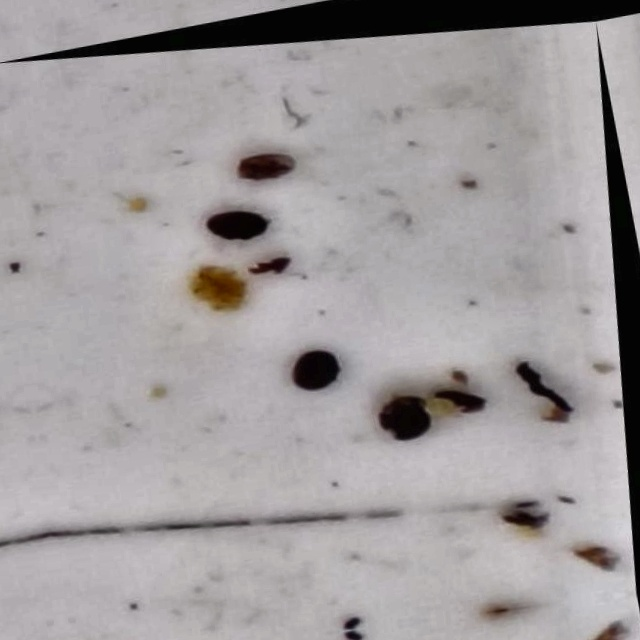varroa: (380, 385, 443, 438), (291, 338, 351, 393), (205, 203, 278, 246)
